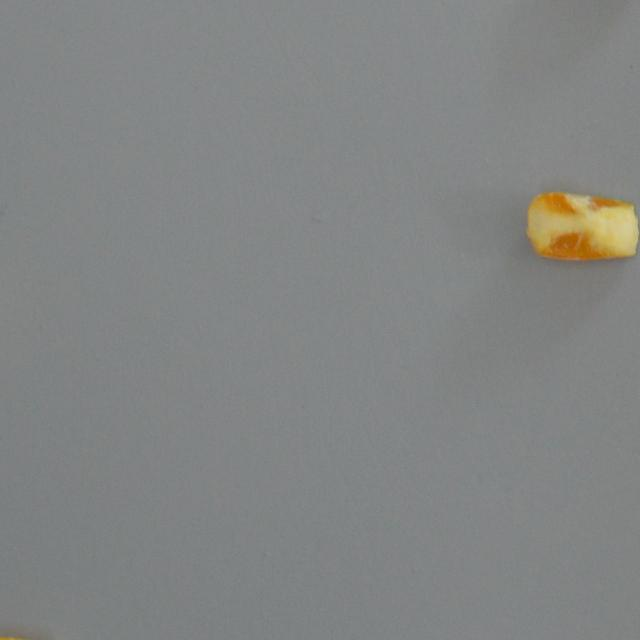pelicula: (522, 191, 638, 262)
